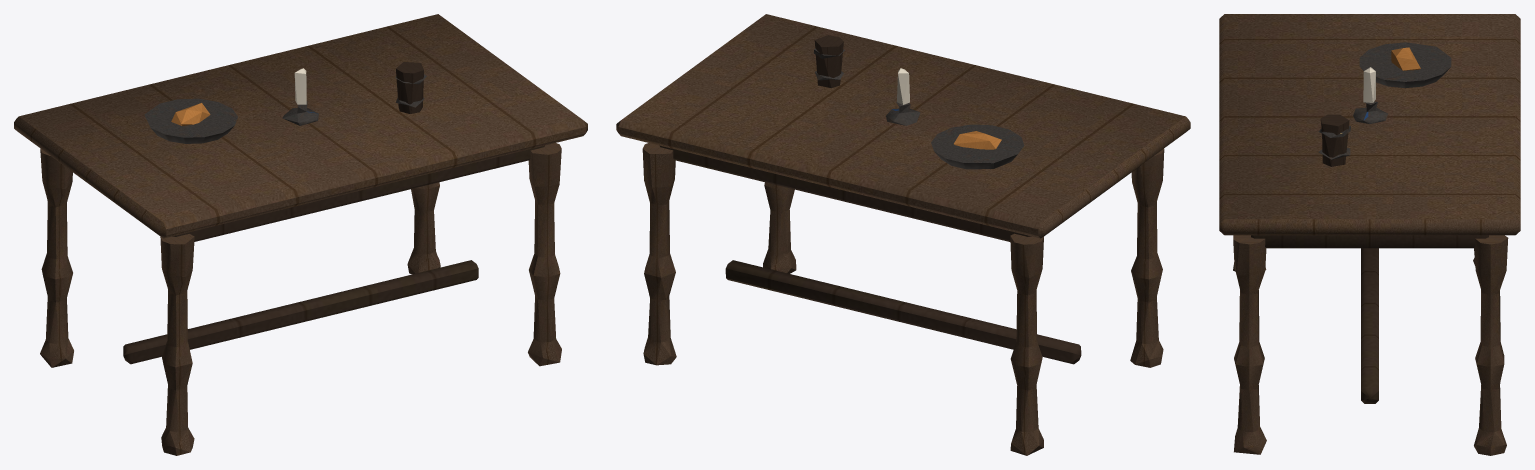
Rendered from table_lod1.glb.
The picture shows the model from 3 angles, left to right: view 1: azimuth 30°, elevation 25°; view 2: azimuth 150°, elevation 25°; view 3: azimuth 270°, elevation 25°; orthographic projection.
Visible parts, largest first — view 1: table; view 2: table; view 3: table.
Boxes of the visible parts, box(x1,y1,x2,y2) form: table: box(14, 14, 587, 455); table: box(616, 14, 1190, 455); table: box(1219, 14, 1520, 455).
Bounding box in the file's own units: 1.4 × 0.9096 × 0.85.
Materials: 1 (1 with a texture image).
